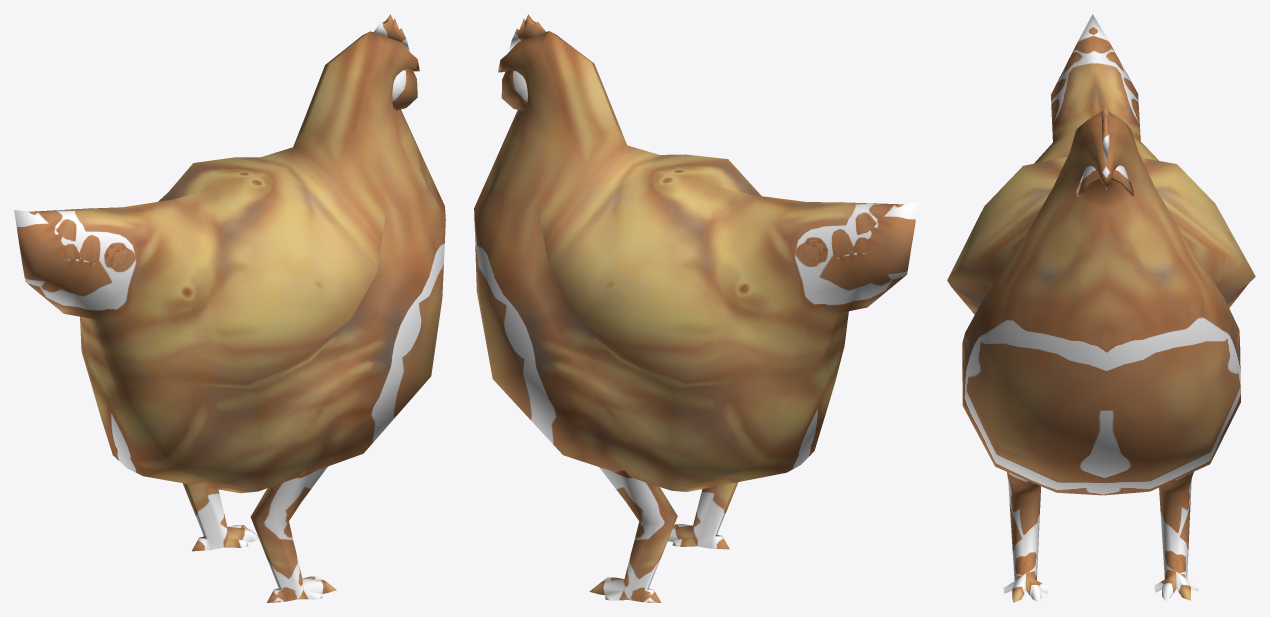
File: chicken.FBX
The picture shows the model from 3 angles, left to right: view 1: azimuth 30°, elevation 25°; view 2: azimuth 150°, elevation 25°; view 3: azimuth 270°, elevation 25°; orthographic projection. The views are drawn at different scales.
Visible parts, largest first — view 1: NGon002; view 2: NGon002; view 3: NGon002.
Part boxes in pixels (left/top/right/bottom): NGon002: left=14, top=14, right=445, bottom=602; NGon002: left=474, top=14, right=918, bottom=602; NGon002: left=947, top=14, right=1255, bottom=602.
Bounding box in the file's own units: 110 × 129 × 65.89.
1 material, 1 textured.
